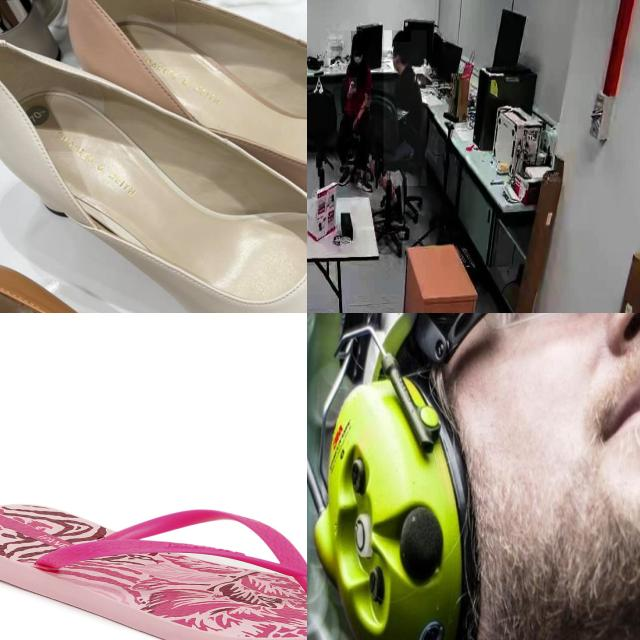Ear-protection: (318, 375, 472, 640)
Sandals: (0, 21, 307, 313), (50, 0, 307, 233), (0, 501, 307, 640)
face_mask: (350, 43, 364, 64)
hand_noglove: (351, 115, 359, 133), (349, 78, 357, 94)
head_nohelmet: (392, 30, 412, 43), (351, 31, 365, 44)
person: (383, 30, 427, 187), (336, 30, 366, 196)
